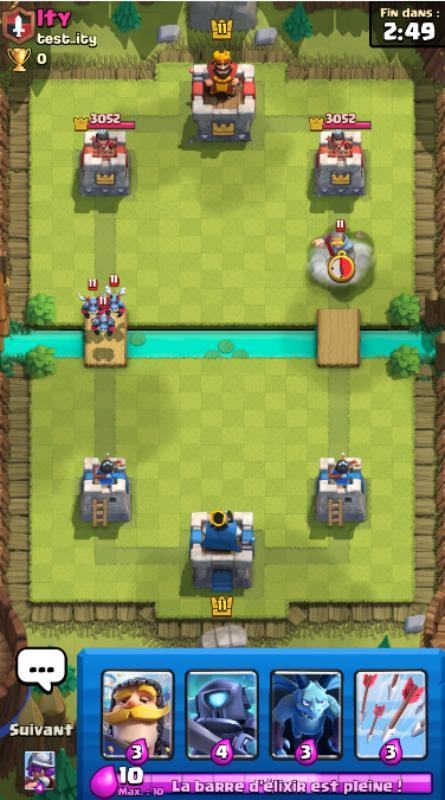chevalier: (310, 218, 357, 265)
gargouille: (78, 277, 106, 319), (104, 273, 127, 319), (90, 297, 115, 336)
